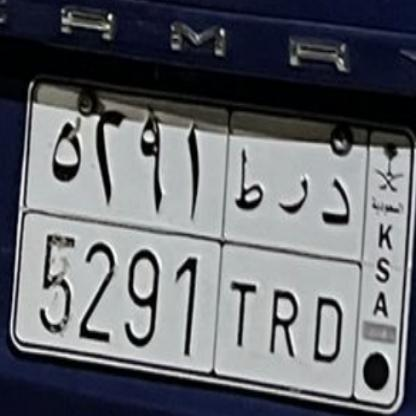english: (3, 228, 366, 408)
